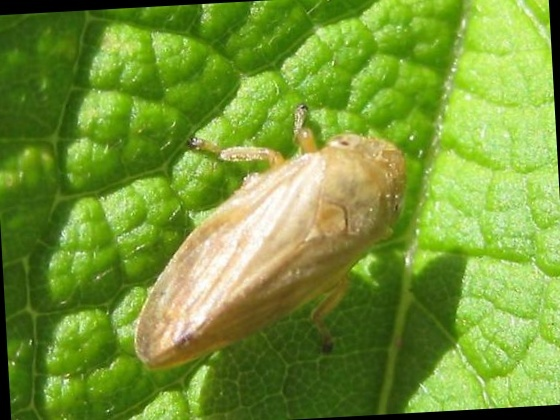Brown_hopper: (125, 129, 421, 374)
